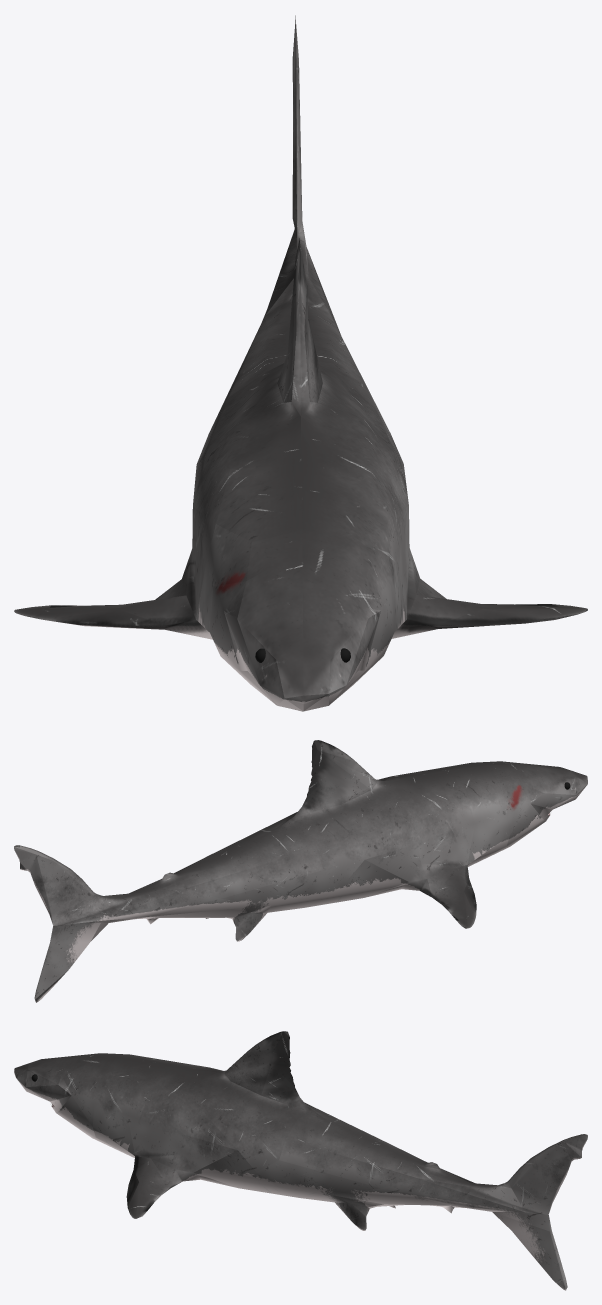
File: shark textured animated.fbx
3 renders of one model, top to bottom at view 1: azimuth 30°, elevation 25°; view 2: azimuth 150°, elevation 25°; view 3: azimuth 270°, elevation 25°, orthographic. The views are drawn at different scales.
Parts seen in each view (by area): view 1: shark_LP_shark_LP1; view 2: shark_LP_shark_LP1; view 3: shark_LP_shark_LP1.
Boxes of the visible parts, left/top/right/bottom form: shark_LP_shark_LP1: left=14, top=15, right=587, bottom=711; shark_LP_shark_LP1: left=14, top=740, right=587, bottom=1002; shark_LP_shark_LP1: left=14, top=1031, right=587, bottom=1290.
Size of the model in its own units: 256 by 157 by 426.
1 material, 1 textured.
